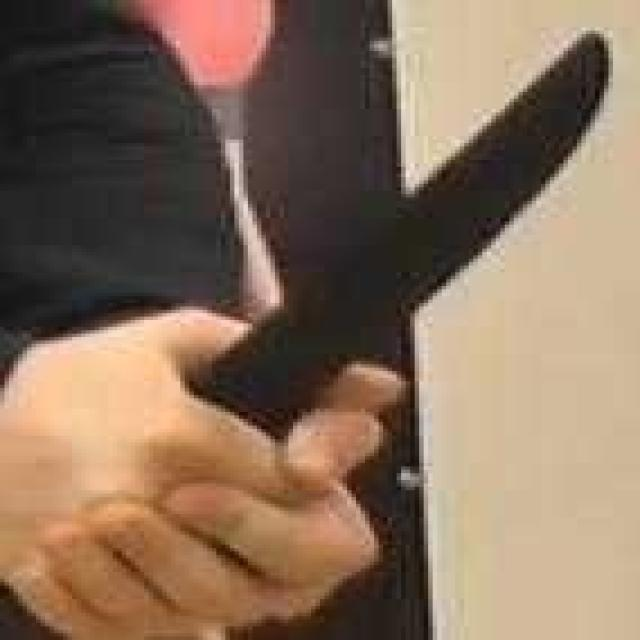Knife: (126, 0, 640, 562)
